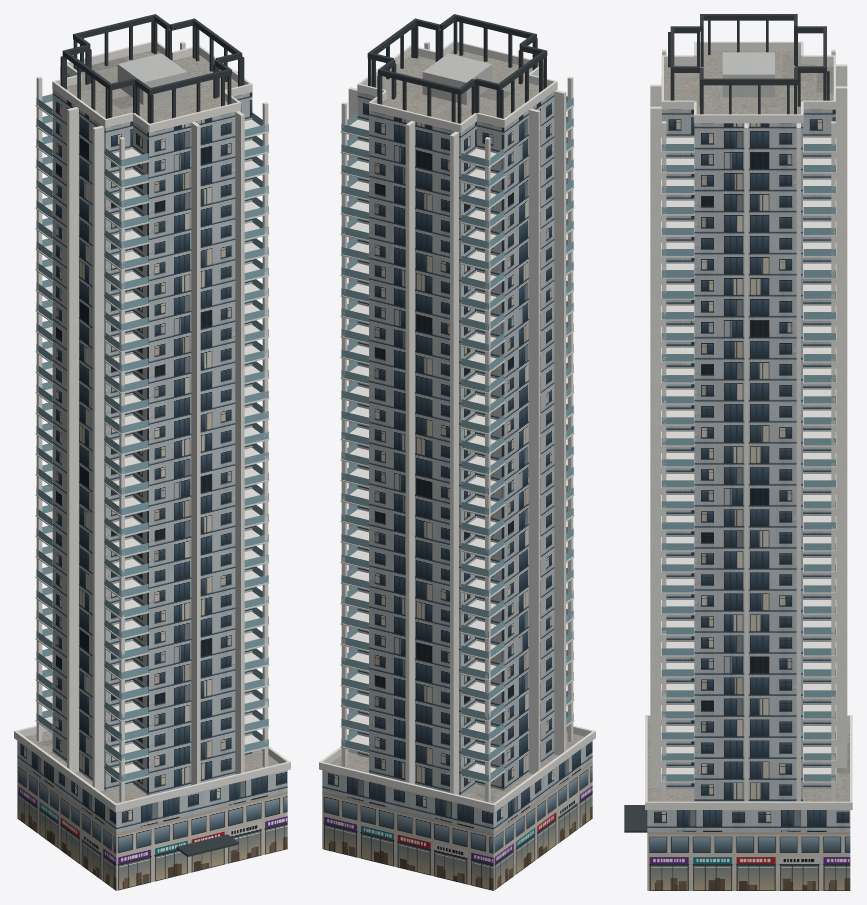
File: OW_CaoOc_CH_GocLom_116.fbx
3 views of the same model, side by side, from view 1: azimuth 30°, elevation 25°; view 2: azimuth 150°, elevation 25°; view 3: azimuth 270°, elevation 25° (orthographic). The views are drawn at different scales.
Parts seen in each view (by area): view 1: OW_CaoOc_CH_GocLom_116_LOD0; view 2: OW_CaoOc_CH_GocLom_116_LOD0; view 3: OW_CaoOc_CH_GocLom_116_LOD0.
Boxes of the visible parts, box(x1,y1,x2,y2) form: OW_CaoOc_CH_GocLom_116_LOD0: box(14, 14, 290, 890); OW_CaoOc_CH_GocLom_116_LOD0: box(319, 14, 595, 890); OW_CaoOc_CH_GocLom_116_LOD0: box(624, 14, 852, 890).
Size of what is drawn, in the model's own units: 28.7 by 122 by 31.55.
